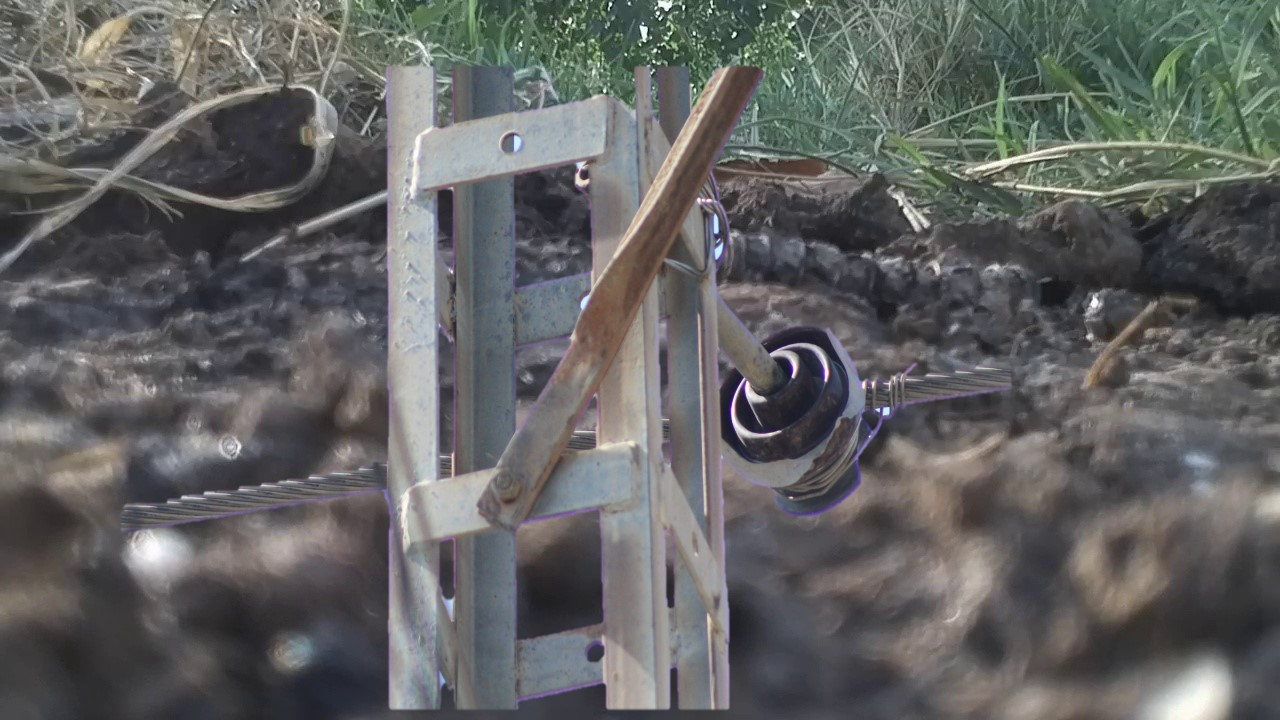defect_pin: (719, 321, 889, 524)
